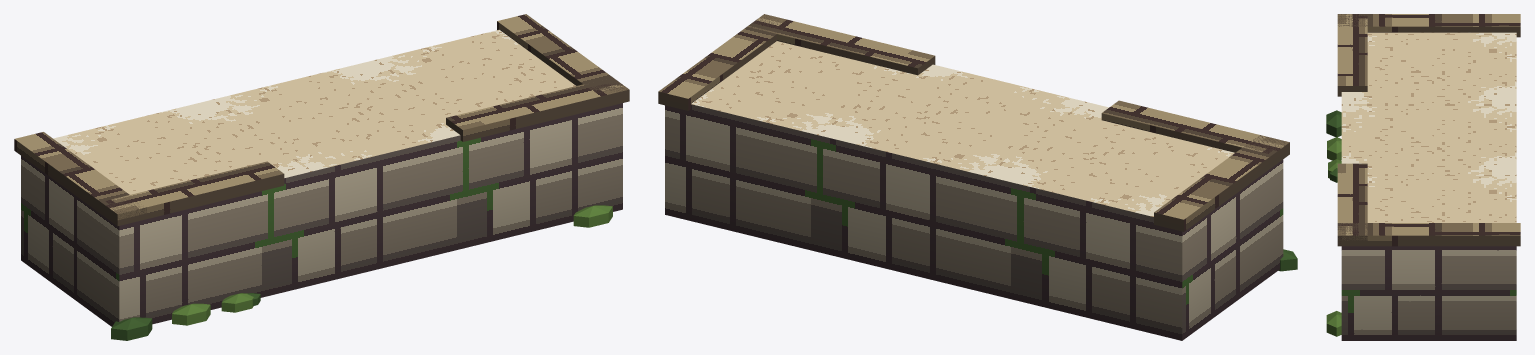
File: scene_plat_g4.glb
The picture shows the model from 3 angles, left to right: view 1: azimuth 30°, elevation 25°; view 2: azimuth 150°, elevation 25°; view 3: azimuth 270°, elevation 25°; orthographic projection. The views are drawn at different scales.
Parts seen in each view (by area): view 1: scene_plat_g4; view 2: scene_plat_g4; view 3: scene_plat_g4.
Boxes of the visible parts, x1,y1,x2,y2 form: scene_plat_g4: (14, 14, 629, 340); scene_plat_g4: (658, 14, 1297, 340); scene_plat_g4: (1326, 14, 1520, 340).
Size of the model in its own units: 6.39 by 1.51 by 2.34.
Materials: 3 (2 with a texture image).
